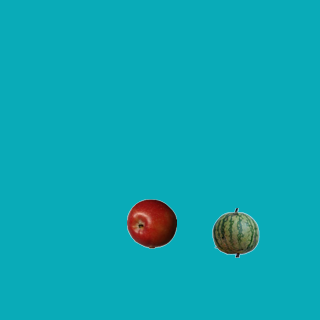Apple Braeburn: (126, 198, 176, 248)
Watermelon: (210, 207, 260, 257)
